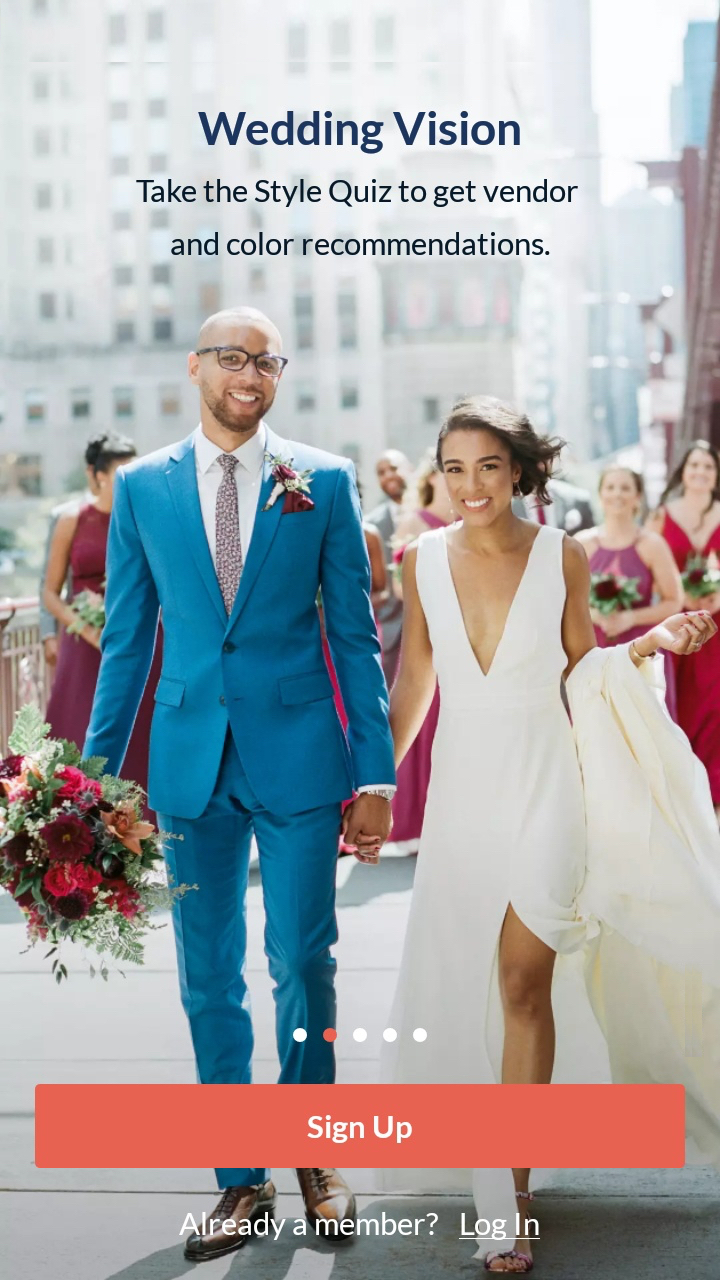BackgroundImage: (1, 1, 720, 1280)
PageIndicator: (293, 1027, 428, 1043)
Text: (136, 179, 579, 257), (198, 111, 521, 155), (179, 1211, 439, 1240), (459, 1212, 541, 1241)
TextButton: (35, 1084, 685, 1168)
